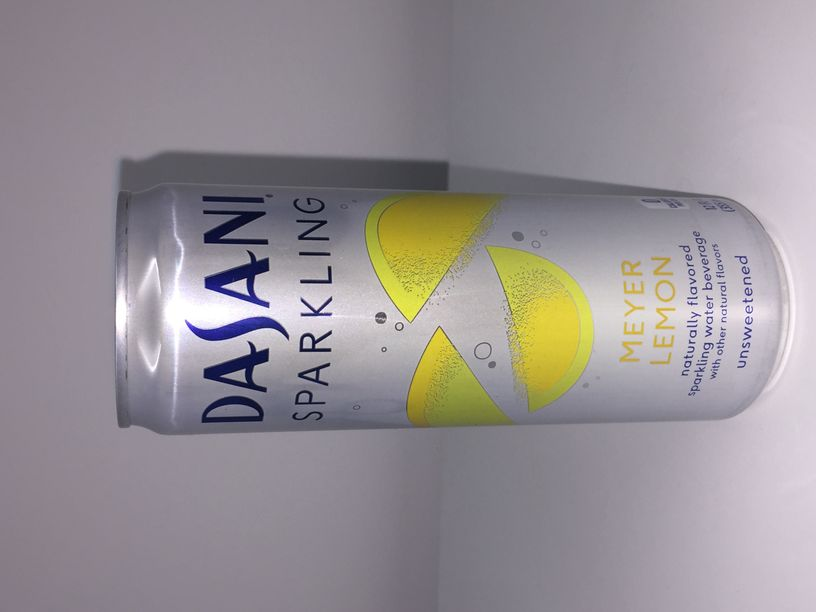lemon: (112, 180, 791, 435)
